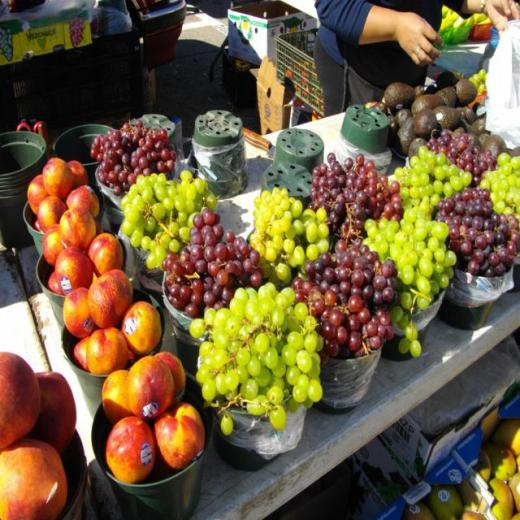Orange: (90, 121, 520, 436)
